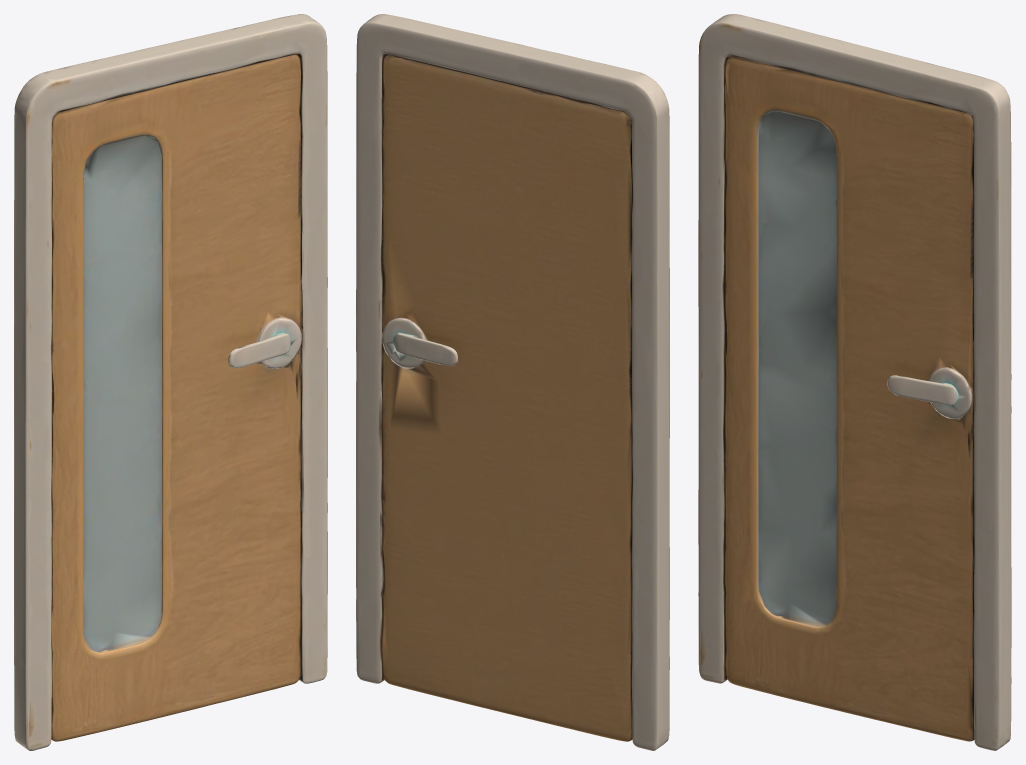
Rendered from door.medium.glb.
3 views of the same model, side by side, from view 1: azimuth 30°, elevation 25°; view 2: azimuth 150°, elevation 25°; view 3: azimuth 330°, elevation 25° (orthographic).
Visible parts, largest first — view 1: tripo_node_c5667a89-3a60-4292-91c1-d144dbeb9029; view 2: tripo_node_c5667a89-3a60-4292-91c1-d144dbeb9029; view 3: tripo_node_c5667a89-3a60-4292-91c1-d144dbeb9029.
Boxes of the visible parts, left/top/right/bottom form: tripo_node_c5667a89-3a60-4292-91c1-d144dbeb9029: left=14, top=14, right=327, bottom=750; tripo_node_c5667a89-3a60-4292-91c1-d144dbeb9029: left=356, top=14, right=669, bottom=750; tripo_node_c5667a89-3a60-4292-91c1-d144dbeb9029: left=698, top=14, right=1011, bottom=750.
Size of the model in its own units: 0.9999 by 2.1 by 0.1397.
Materials: 1 (1 with a texture image).
